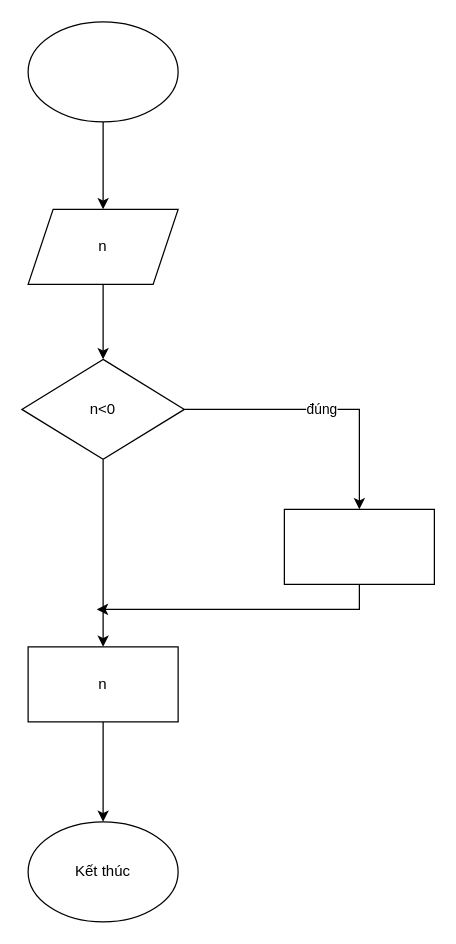
The diagram is 456 pixels wide and 944 high, and some of its shapes have lost their labels. The shapes that lost their labels are listed below. From the top down, each one's centre as x and y in pixels, then its label:
At point 102,71: "Bắt đầu".
At point 358,546: "n=n*(-1)".
